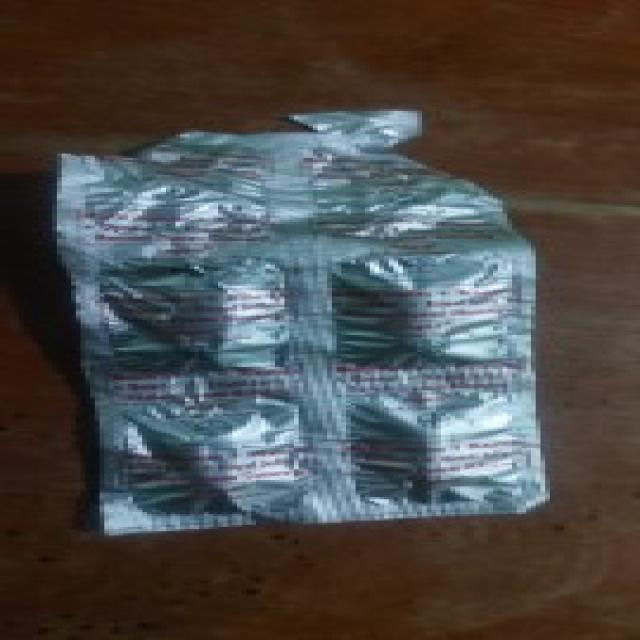Cacat: (53, 105, 550, 535)
Kemasan: (60, 108, 453, 196)
